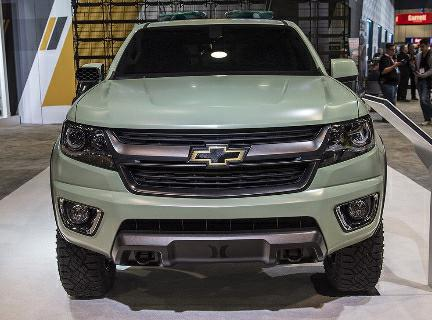雪佛兰-库罗德: (45, 15, 386, 297)
